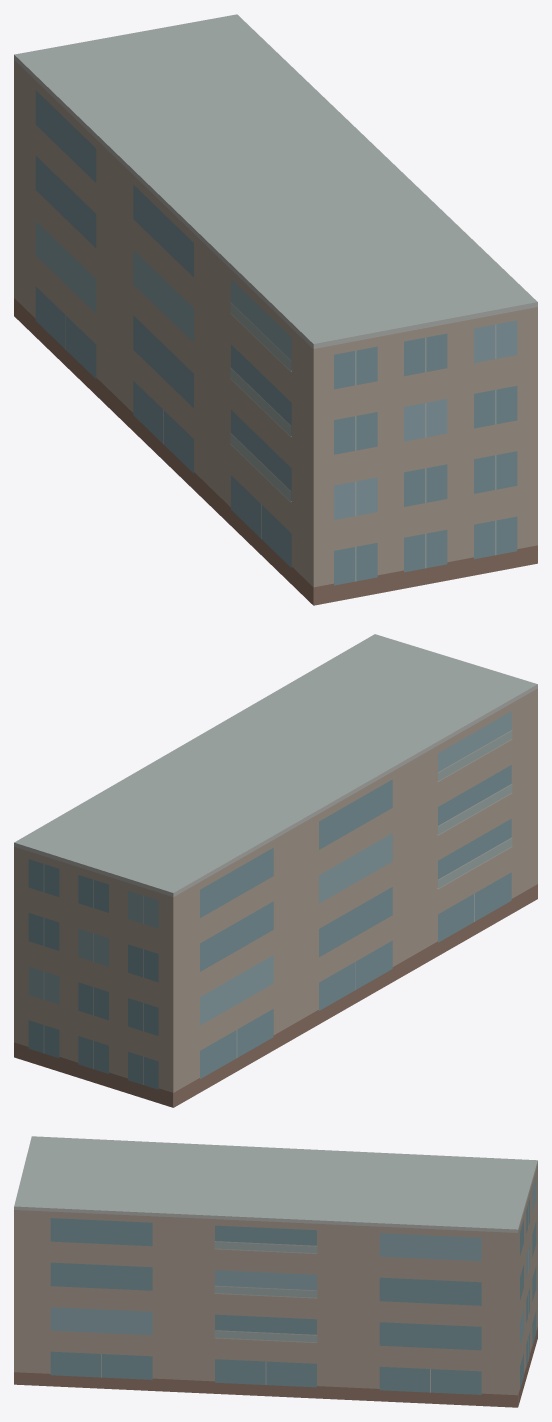
File: survey-upis-32939400.glb
3 views of the same model, one above another, from view 1: azimuth 30°, elevation 25°; view 2: azimuth 150°, elevation 25°; view 3: azimuth 270°, elevation 25° (orthographic). The views are drawn at different scales.
Parts seen in each view (by area): view 1: survey-upis-32939400.tmp; view 2: survey-upis-32939400.tmp; view 3: survey-upis-32939400.tmp.
Part boxes in pixels (x1,y1,x2,y2): survey-upis-32939400.tmp: [14, 14, 537, 605]; survey-upis-32939400.tmp: [14, 634, 537, 1107]; survey-upis-32939400.tmp: [14, 1136, 537, 1407].
Size of the model in its own units: 14.39 by 12.8 by 34.12.
